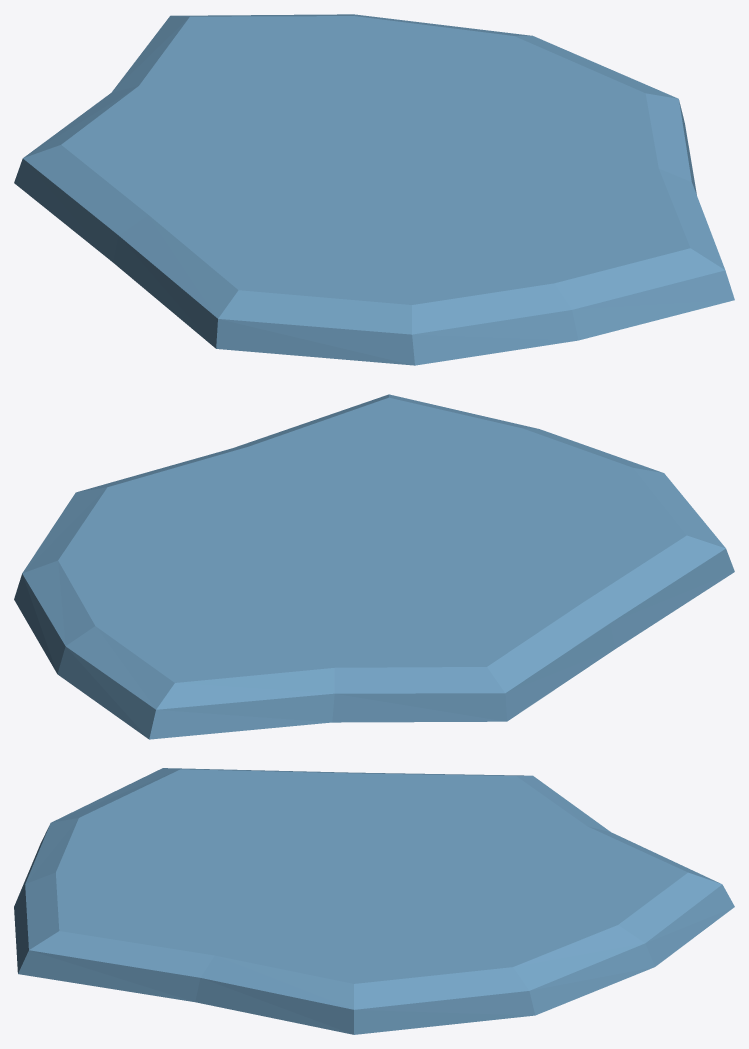
Rendered from water.glb.
3 renders of one model, top to bottom at view 1: azimuth 30°, elevation 25°; view 2: azimuth 150°, elevation 25°; view 3: azimuth 270°, elevation 25°, orthographic. The views are drawn at different scales.
Size of the model in its own units: 1.93 by 0.125 by 2.38.
